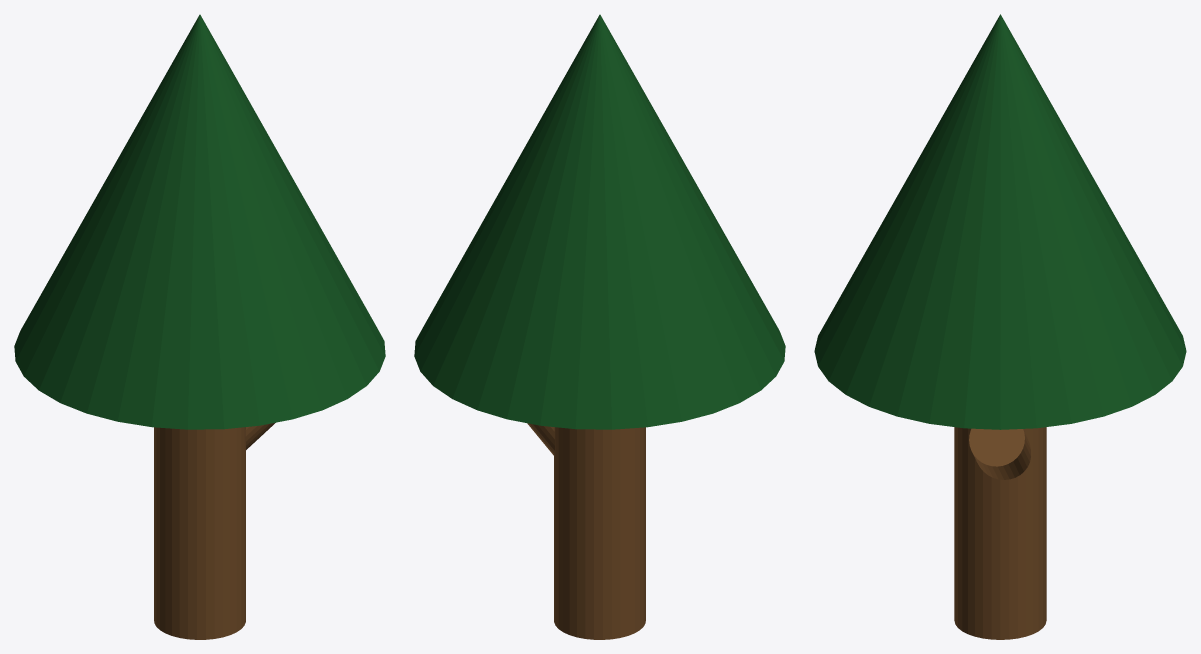
Rendered from coneTree.fbx.
3 renders of one model, left to right at view 1: azimuth 30°, elevation 25°; view 2: azimuth 150°, elevation 25°; view 3: azimuth 270°, elevation 25°, orthographic.
Visible parts, largest first — view 1: Cone; view 2: Cone; view 3: Cone.
Part boxes in pixels (box(x1,y1,x2,y2)): Cone: box(14, 14, 385, 639); Cone: box(414, 14, 785, 639); Cone: box(814, 14, 1186, 639).
Size of the model in its own units: 217 by 389 by 217.
